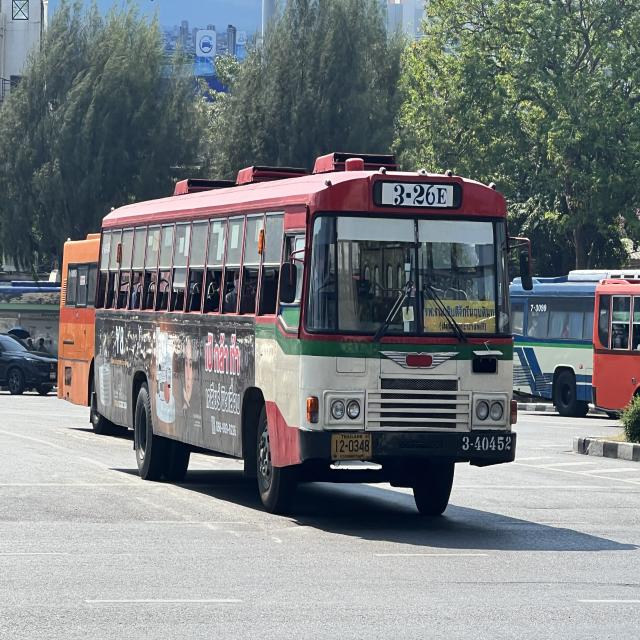BMTA-bus: (89, 153, 518, 520), (54, 232, 100, 410)
Bus-Line-Number: (373, 173, 464, 212)
Destination-Sign-Normal-Expressway: (423, 298, 497, 334)
